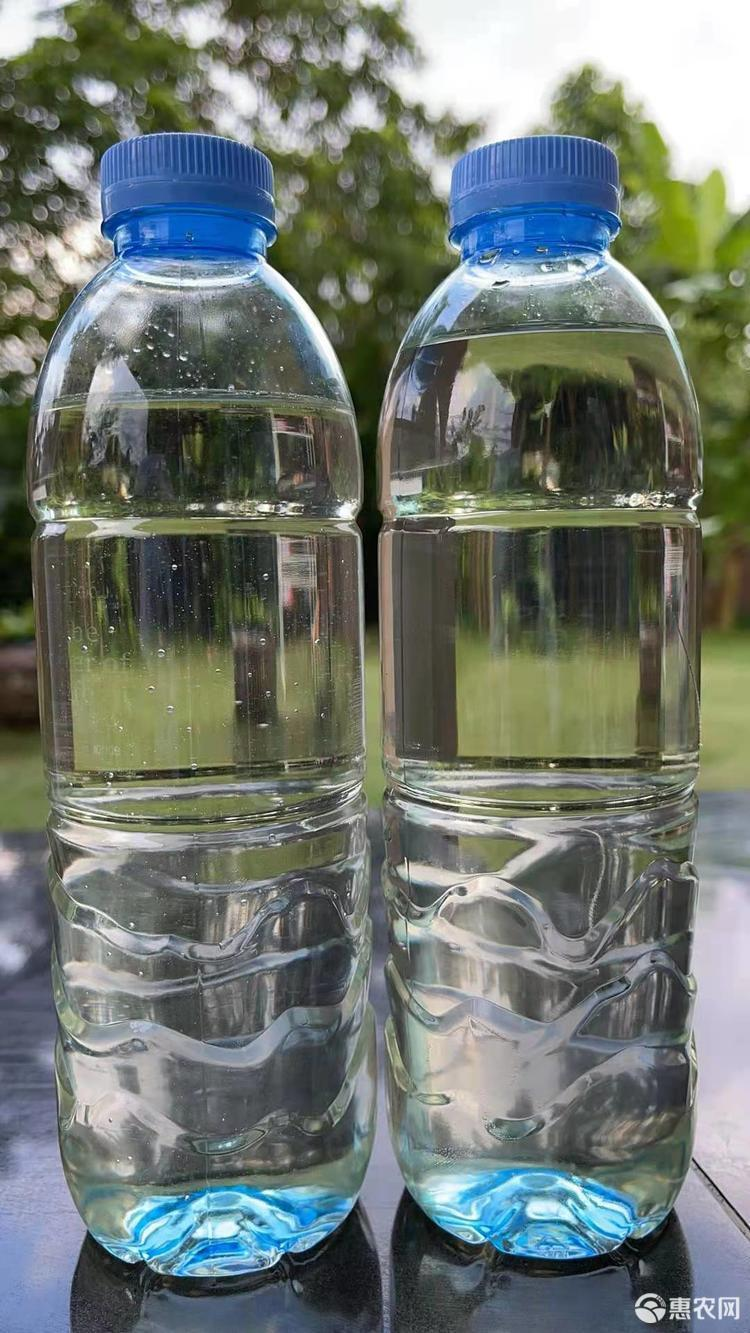plastic: (28, 134, 372, 1277), (380, 135, 701, 1259)
